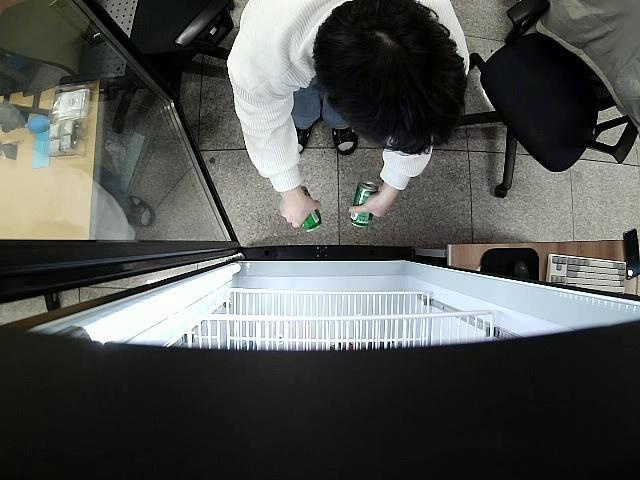12_chilsungCider: (349, 178, 383, 232), (294, 184, 324, 234)
